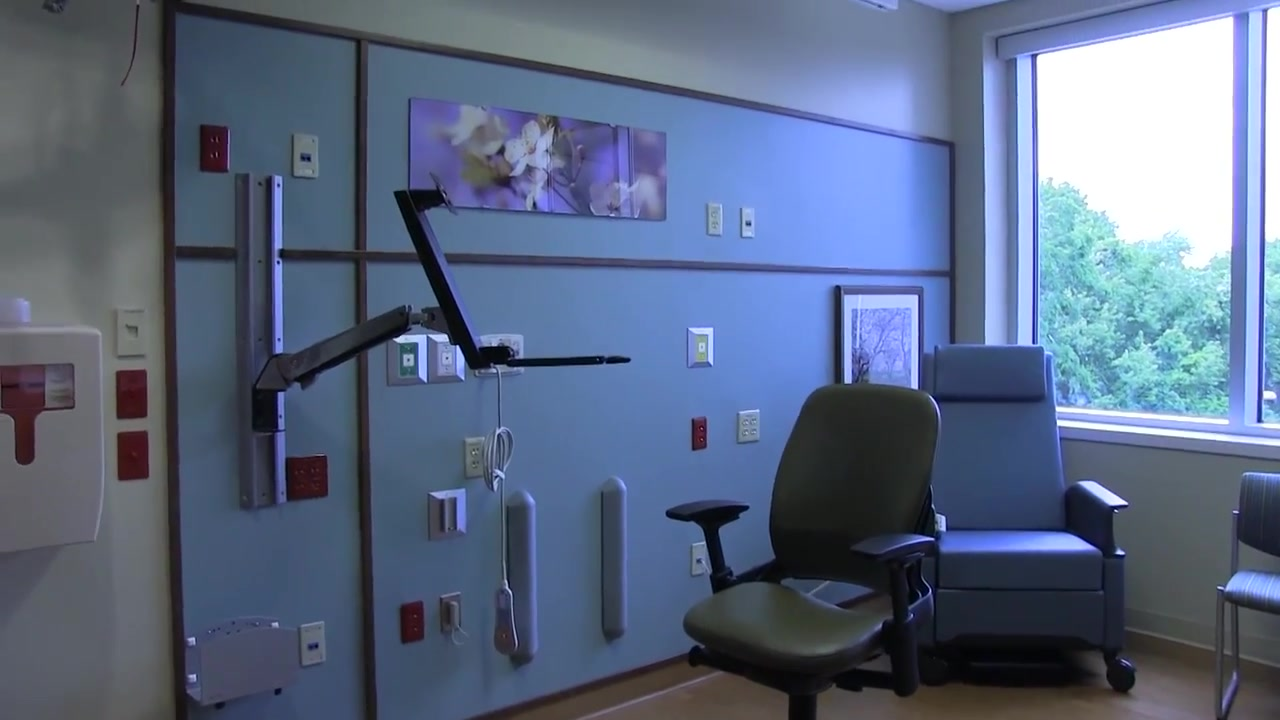chair: (665, 382, 942, 717), (1215, 468, 1280, 720)
medical_waste_container: (4, 291, 110, 568)
sofa: (920, 344, 1136, 692)
